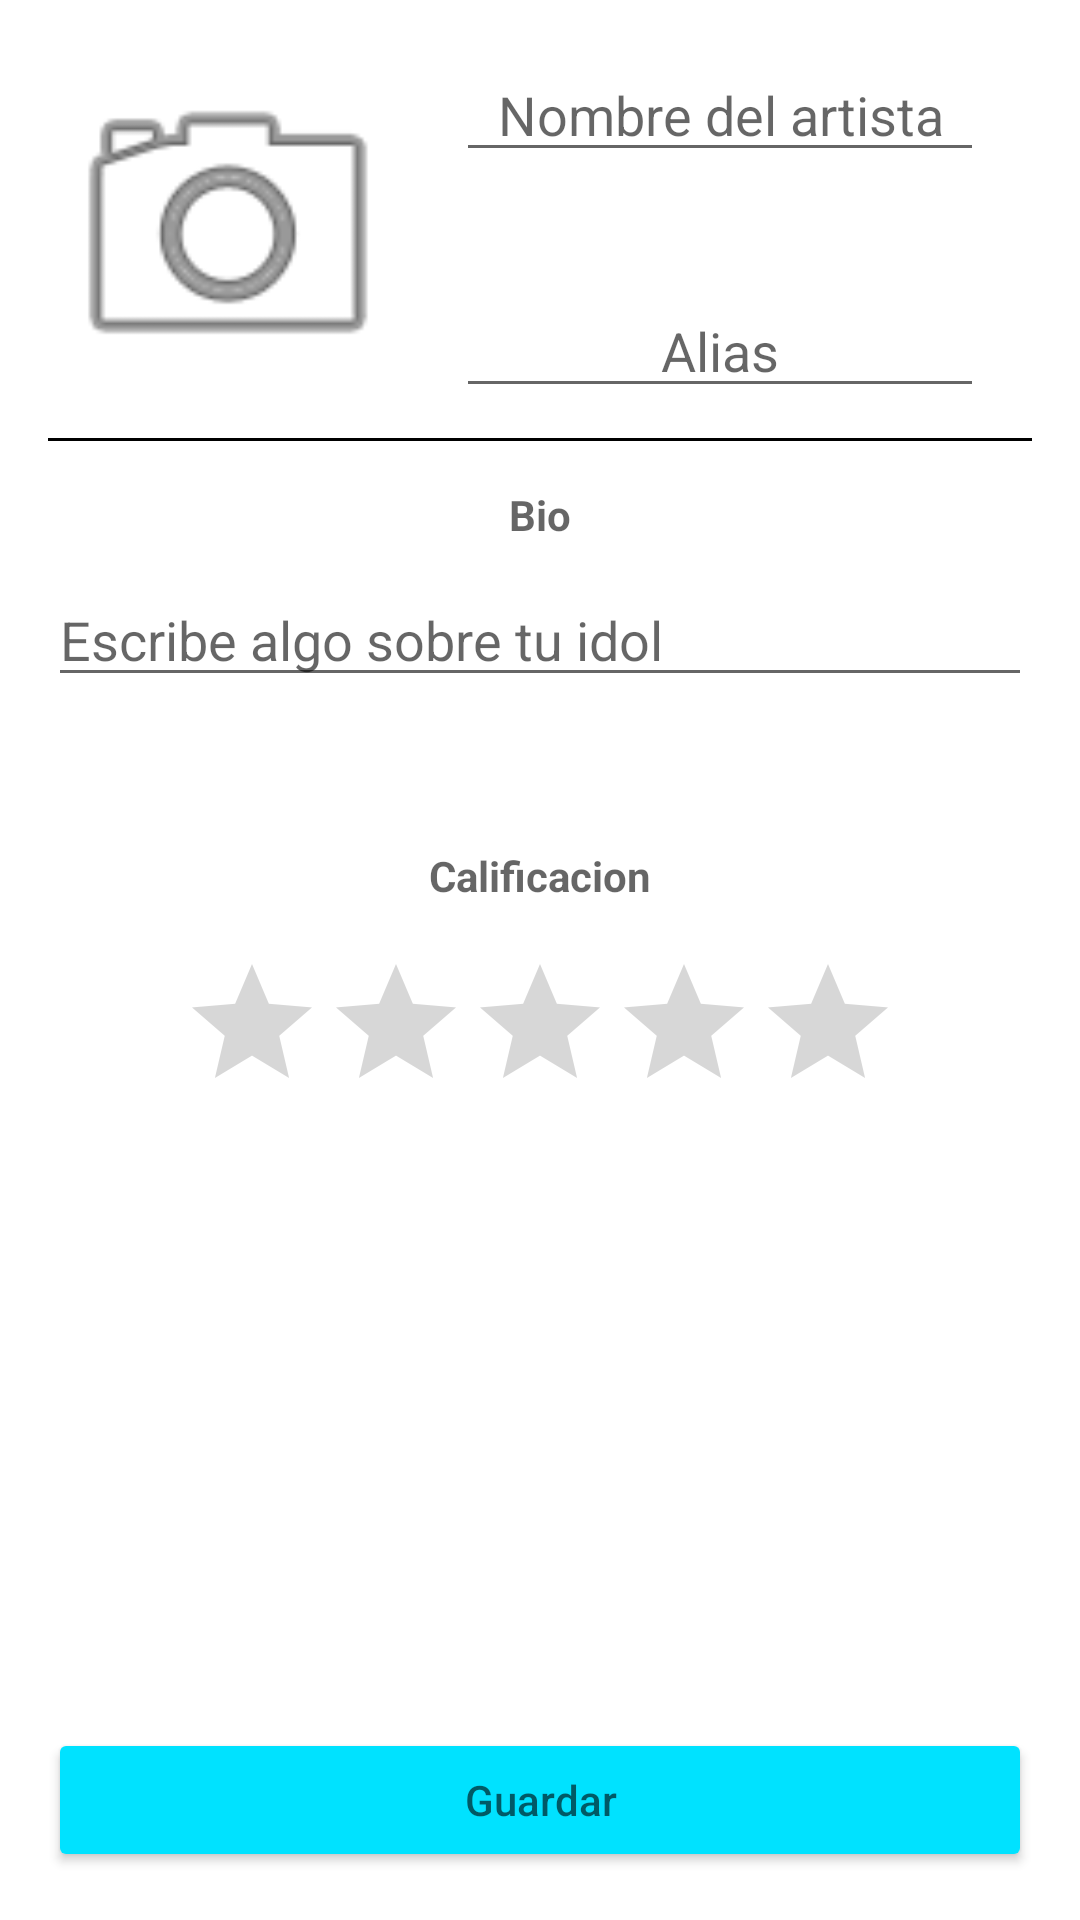

Icon bounding boxes for this 1080px x 1920px phone screenshot, format (x1, y1, x2, y2):
camera: (89, 111, 367, 333)
